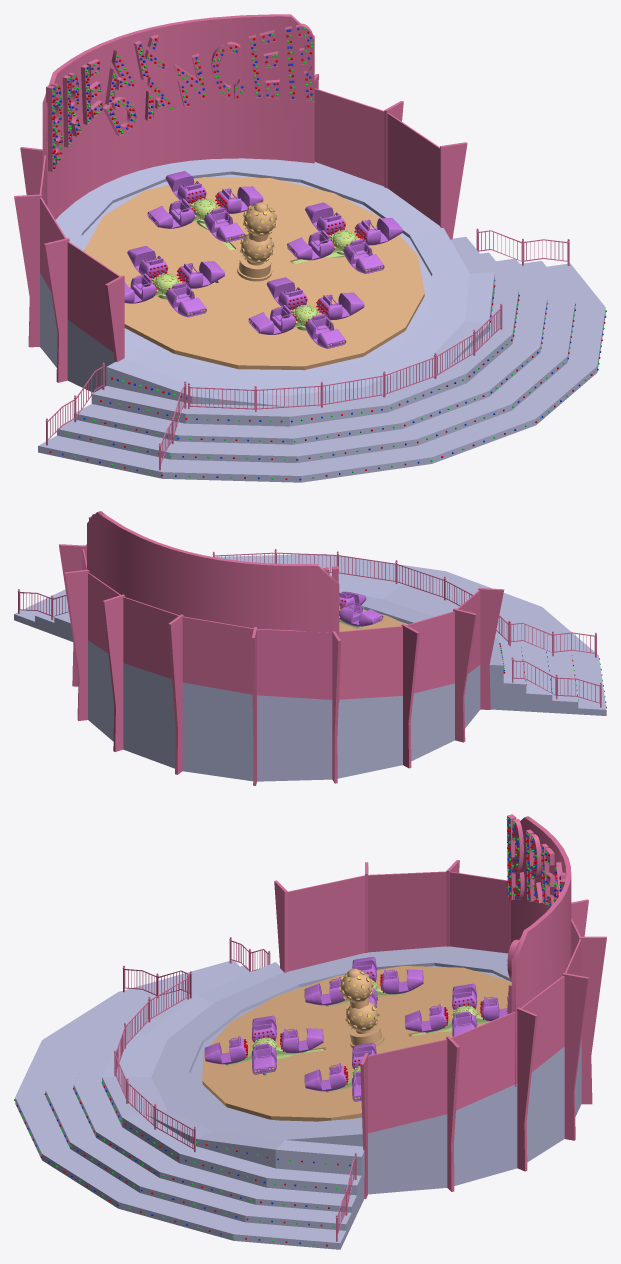
File: Break_Dancer.fbx
3 views of the same model, one above another, from view 1: azimuth 30°, elevation 25°; view 2: azimuth 150°, elevation 25°; view 3: azimuth 270°, elevation 25° (orthographic). The views are drawn at different scales.
Parts seen in each view (by area): view 1: Break_Dancer_base, Rotating_Plate, Breaker_3_3, Breaker_4_2, Breaker_2_5, Breaker_3, Breaker_3_4, Breaker_4_4, Breaker_4, Breaker_2_4, Breaker_4_5, Breaker_3_2 (+6 smaller); view 2: Break_Dancer_base, Breaker_2_5, Rotating_Plate; view 3: Break_Dancer_base, Rotating_Plate, Breaker_2, Breaker_2_4, Breaker_3_5, Breaker_3_2, Breaker_4_5, Breaker_4, Breaker_4_4.
Part boxes in pixels (<box>): Break_Dancer_base: <box>14,14,606,482</box>; Rotating_Plate: <box>84,177,424,370</box>; Breaker_3_3: <box>287,230,335,260</box>; Breaker_4_2: <box>147,198,195,228</box>; Breaker_2_5: <box>248,305,296,334</box>; Breaker_3: <box>176,261,224,288</box>; Breaker_3_4: <box>354,218,402,245</box>; Breaker_4_4: <box>316,292,364,319</box>; Breaker_4: <box>166,282,206,317</box>; Breaker_2_4: <box>344,239,384,273</box>; Breaker_4_5: <box>305,313,346,348</box>; Breaker_3_2: <box>204,207,244,242</box>; Break_Dancer_base: <box>14,511,606,785</box>; Breaker_2_5: <box>339,600,383,626</box>; Rotating_Plate: <box>339,609,406,631</box>; Break_Dancer_base: <box>14,814,606,1249</box>; Rotating_Plate: <box>202,966,511,1121</box>; Breaker_2: <box>380,969,423,994</box>; Breaker_2_4: <box>304,1062,348,1091</box>; Breaker_3_5: <box>280,1028,323,1053</box>; Breaker_3_2: <box>405,1003,448,1032</box>; Breaker_4_5: <box>204,1036,247,1064</box>; Breaker_4: <box>304,977,344,1005</box>; Breaker_4_4: <box>251,1043,276,1074</box>.
Bounding box in the file's own units: 3227 × 1216 × 2853.
